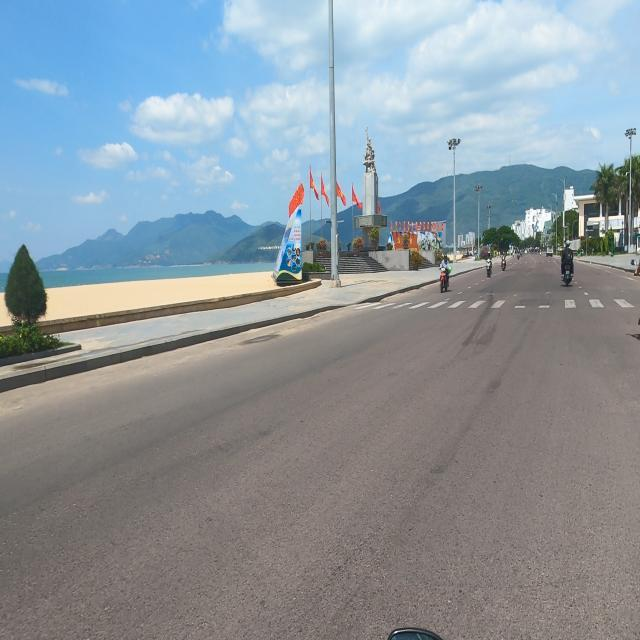walk-crossing: (350, 296, 640, 308)
